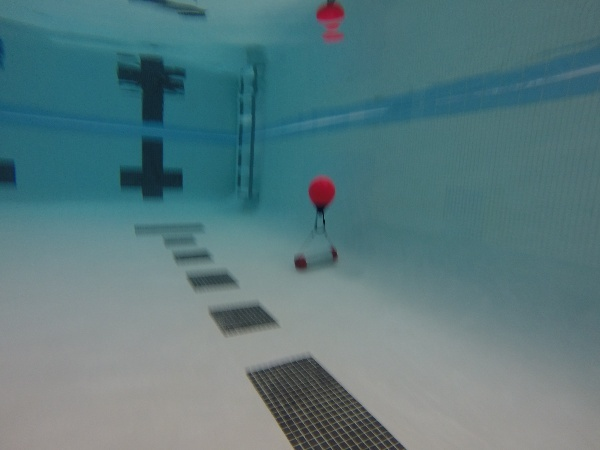buoy_red: (306, 175, 337, 216)
